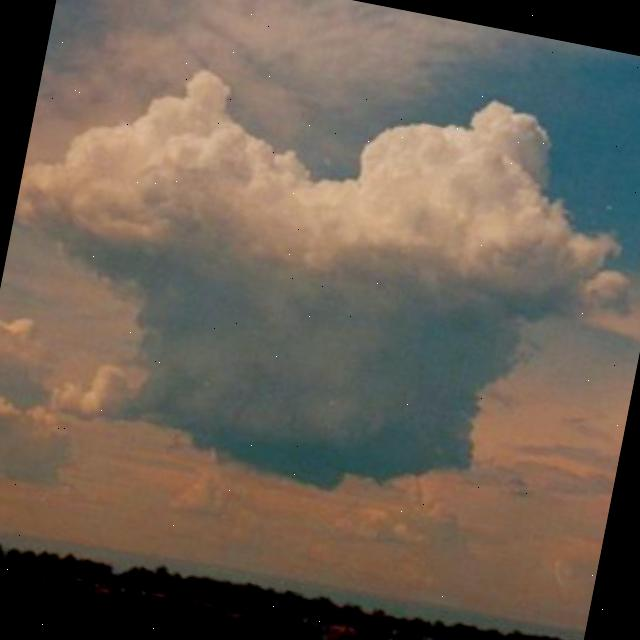Cs: (1, 8, 640, 540)
